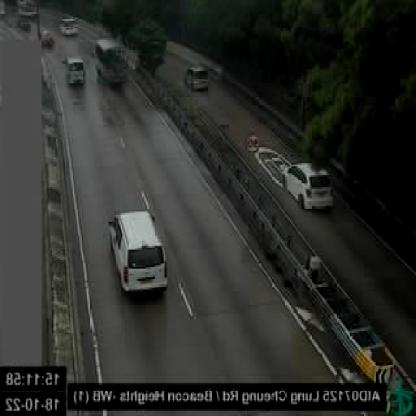Car: (106, 208, 170, 299), (285, 160, 333, 210), (63, 55, 87, 89), (184, 64, 210, 91), (58, 14, 79, 37), (38, 29, 54, 48)
Truck: (94, 36, 128, 88)
